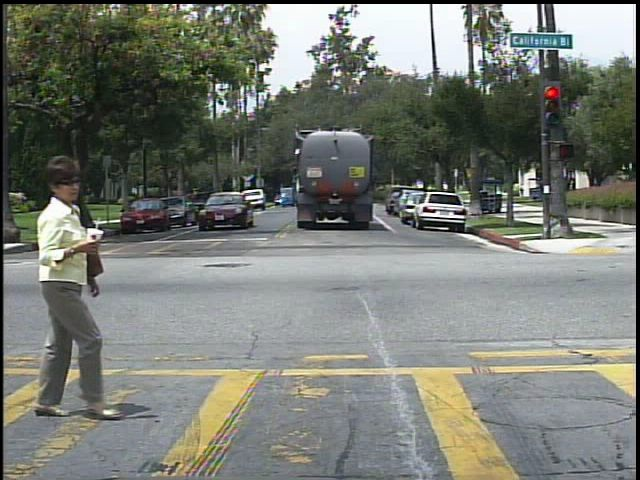person: (24, 150, 99, 422), (564, 172, 582, 204), (517, 180, 530, 200)
